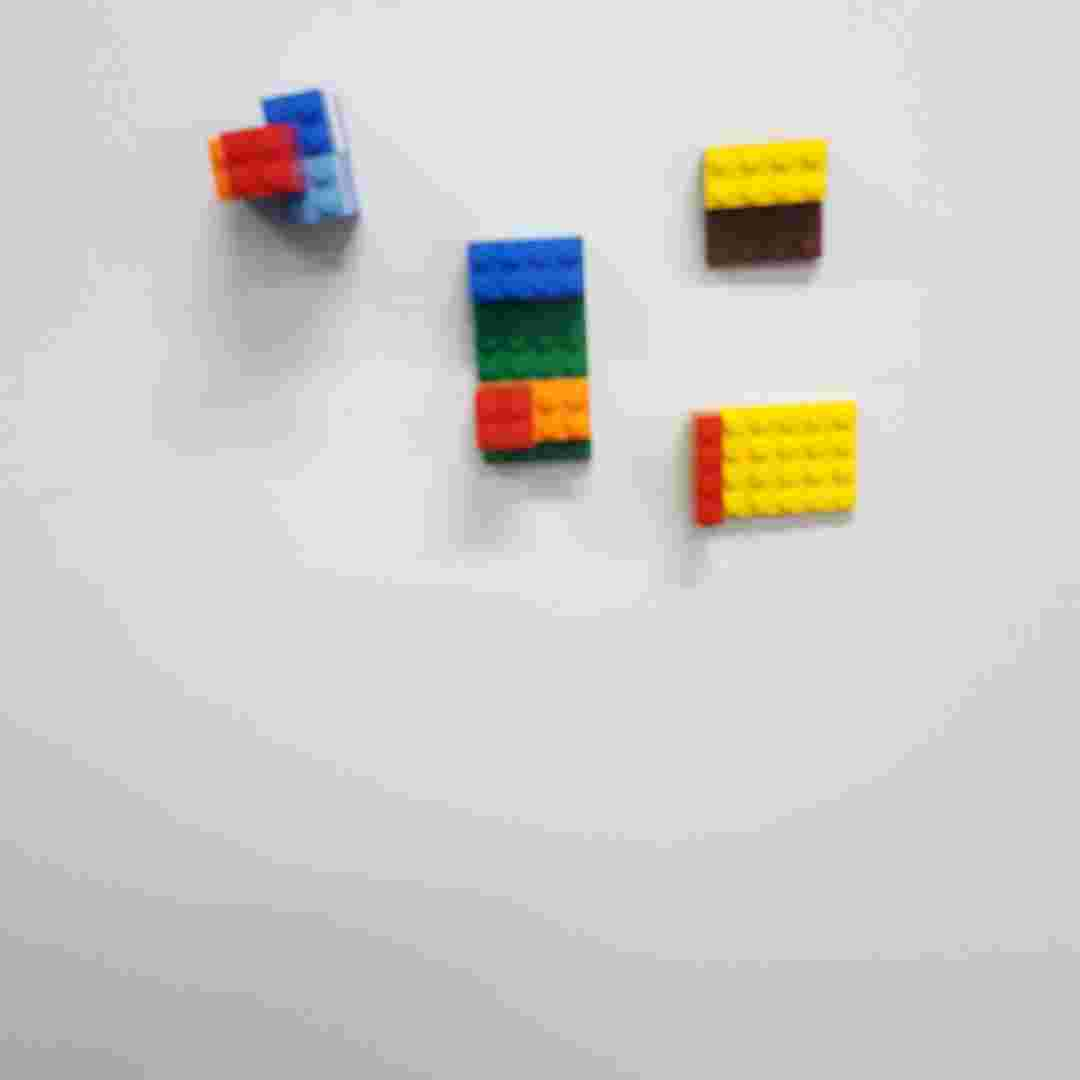LEGO: (462, 231, 598, 471), (683, 396, 866, 528), (201, 85, 364, 227), (699, 137, 831, 265)
